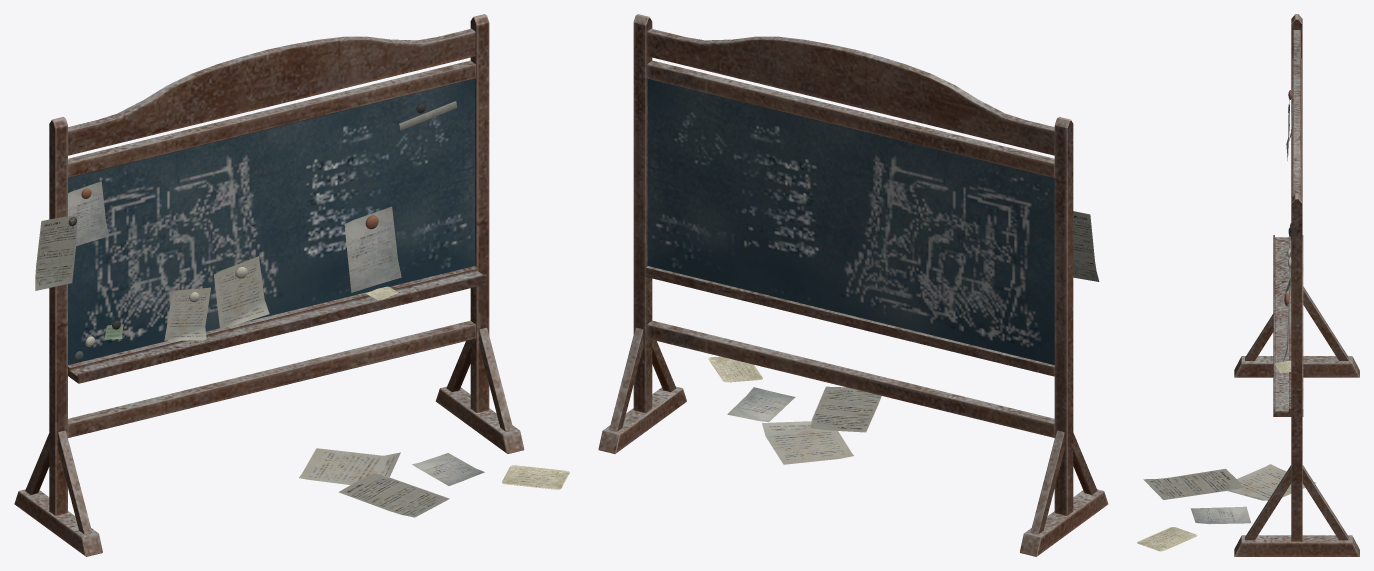
The model's file is sm39_009_blackboard01a.fbx.
The picture shows the model from 3 angles, left to right: view 1: azimuth 30°, elevation 25°; view 2: azimuth 150°, elevation 25°; view 3: azimuth 270°, elevation 25°; orthographic projection. The views are drawn at different scales.
Visible parts, largest first — view 1: LOD_1_Group_0_Sub_1__sm30_070_Blackboard01A_A_Mat, LOD_1_Group_3_Sub_1__sm36_012_PaperMagnet01A_A_Mat, LOD_1_Group_0_Sub_2__sm36_012_PaperMagnet01A_A_Mat, LOD_1_Group_2_Sub_1__sm36_012_PaperMagnet01A_A_Mat; view 2: LOD_1_Group_0_Sub_1__sm30_070_Blackboard01A_A_Mat, LOD_1_Group_3_Sub_1__sm36_012_PaperMagnet01A_A_Mat, LOD_1_Group_0_Sub_2__sm36_012_PaperMagnet01A_A_Mat; view 3: LOD_1_Group_0_Sub_1__sm30_070_Blackboard01A_A_Mat, LOD_1_Group_3_Sub_1__sm36_012_PaperMagnet01A_A_Mat, LOD_1_Group_0_Sub_2__sm36_012_PaperMagnet01A_A_Mat.
Part boxes in pixels (x1,y1,x2,y2): LOD_1_Group_0_Sub_1__sm30_070_Blackboard01A_A_Mat: (14, 14, 524, 556); LOD_1_Group_3_Sub_1__sm36_012_PaperMagnet01A_A_Mat: (299, 448, 569, 517); LOD_1_Group_0_Sub_2__sm36_012_PaperMagnet01A_A_Mat: (35, 101, 457, 340); LOD_1_Group_2_Sub_1__sm36_012_PaperMagnet01A_A_Mat: (214, 206, 401, 328); LOD_1_Group_0_Sub_1__sm30_070_Blackboard01A_A_Mat: (598, 14, 1108, 556); LOD_1_Group_3_Sub_1__sm36_012_PaperMagnet01A_A_Mat: (708, 356, 881, 464); LOD_1_Group_0_Sub_2__sm36_012_PaperMagnet01A_A_Mat: (1073, 211, 1099, 281); LOD_1_Group_0_Sub_1__sm30_070_Blackboard01A_A_Mat: (1234, 14, 1359, 556); LOD_1_Group_3_Sub_1__sm36_012_PaperMagnet01A_A_Mat: (1137, 464, 1315, 551); LOD_1_Group_0_Sub_2__sm36_012_PaperMagnet01A_A_Mat: (1275, 90, 1292, 373).
Size of the model in its own units: 2.68 by 2.36 by 1.28.
